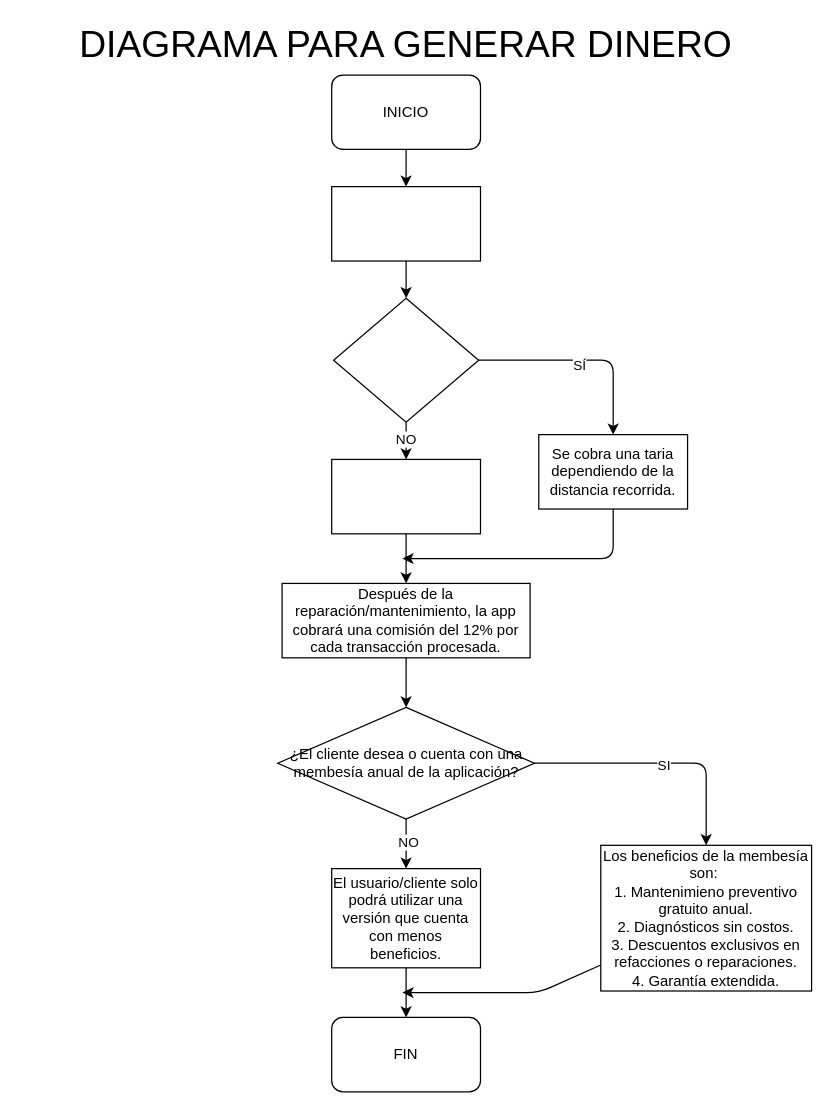
Some shapes in this 833 by 1114 pixel diagram are drawn without their labels. Here are the shapes that lost their labels. From the top down, the centre of each, then its label:
the point at 405,223: Se establece una conexión entre un cliente y un técnico o taller
the point at 405,359: ¿Se hace una recolección a domicilio?
the point at 405,496: El cliente se encuenta con el técnico o acude al taller seleccionado.
